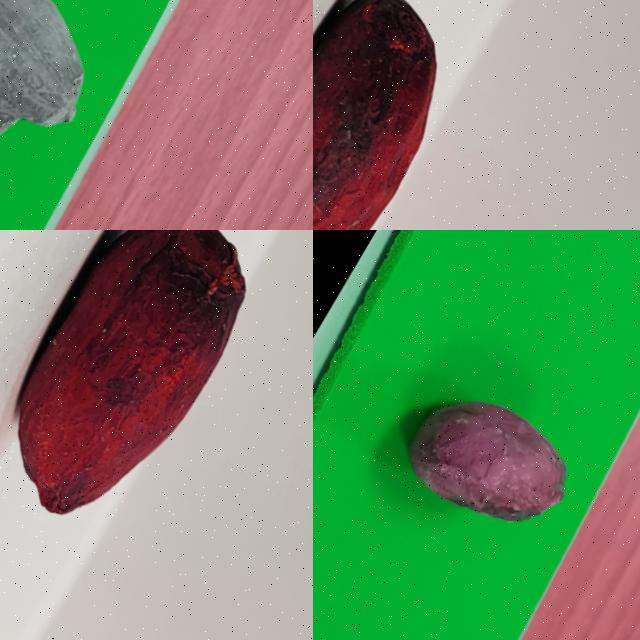Agglomerated_cocoabeans: (0, 0, 212, 229)
Fine_cocoabeans: (313, 272, 639, 639), (0, 230, 306, 576), (313, 0, 508, 229)
